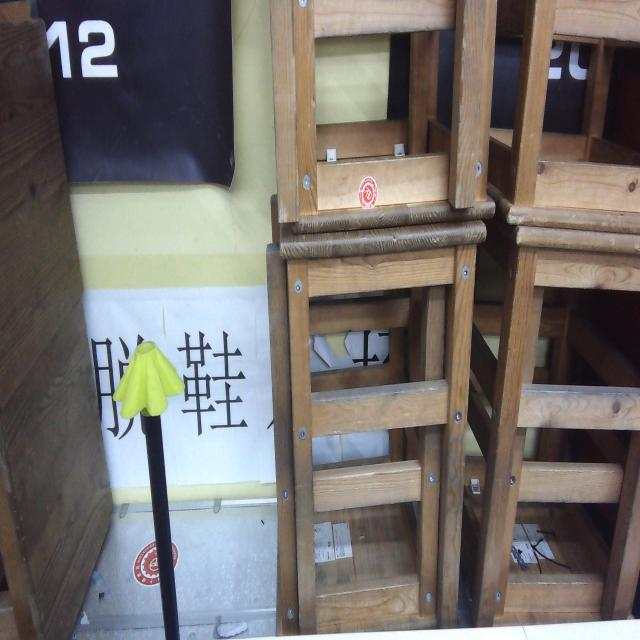Yellow-Stake-Head: (112, 342, 186, 418)
